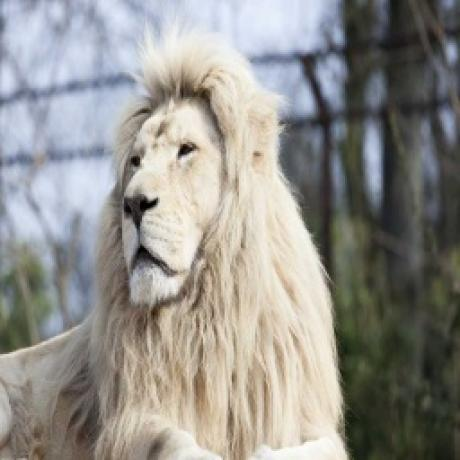Lion: (0, 32, 351, 460)
